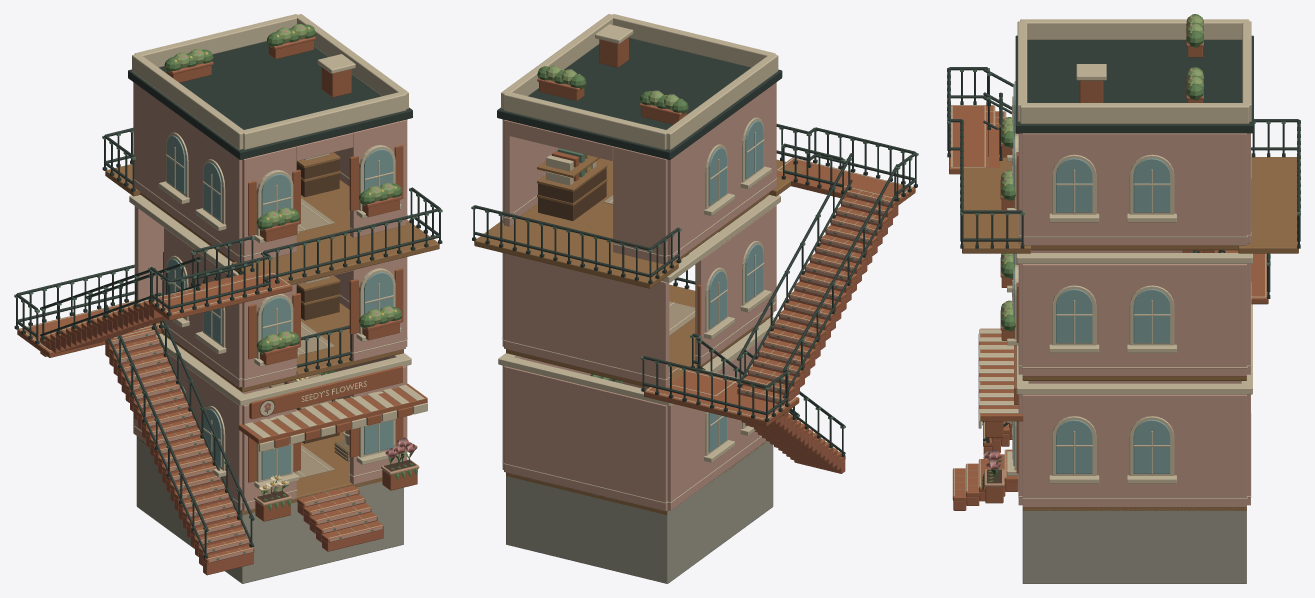
Rendered from lantern-lofts.glb.
3 views of the same model, side by side, from view 1: azimuth 30°, elevation 25°; view 2: azimuth 150°, elevation 25°; view 3: azimuth 270°, elevation 25° (orthographic). The views are drawn at different scales.
Parts seen in each view (by area): view 1: lantern-lofts_Architecture_Mesh, lantern-lofts_Roof_Mesh, lantern-lofts_Shell2_Mesh, lantern-lofts_Shell1_Mesh, lantern-lofts_Level2_Mesh, lantern-lofts_Shell0_Mesh, lantern-lofts_Level0_Mesh, Shop awning_Mesh, lantern-lofts_Level1_Mesh, lantern-lofts_Interior2_Mesh, lantern-lofts_Interior1_Mesh, florist_Planters_Mesh (+3 smaller); view 2: lantern-lofts_Shell0_Mesh, lantern-lofts_Shell1_Mesh, lantern-lofts_Roof_Mesh, lantern-lofts_Architecture_Mesh, lantern-lofts_Shell2_Mesh, lantern-lofts_Level0_Mesh, lantern-lofts_Level2_Mesh, lantern-lofts_Interior2_Mesh, lantern-lofts_Level1_Mesh, lantern-lofts_WallBase0_Mesh, lantern-lofts_WallBase2_Mesh, lantern-lofts_WallBase1_Mesh (+1 smaller); view 3: lantern-lofts_Shell1_Mesh, lantern-lofts_Shell0_Mesh, lantern-lofts_Shell2_Mesh, lantern-lofts_Roof_Mesh, lantern-lofts_Level0_Mesh, lantern-lofts_Level2_Mesh, lantern-lofts_Architecture_Mesh, Shop awning_Mesh, lantern-lofts_WallBase2_Mesh, lantern-lofts_WallBase1_Mesh, lantern-lofts_Level1_Mesh, florist_Planters_Mesh (+1 smaller).
Boxes of the visible parts, x1,y1,x2,y2 form: lantern-lofts_Architecture_Mesh: [14, 256, 383, 575]; lantern-lofts_Roof_Mesh: [128, 14, 412, 159]; lantern-lofts_Shell2_Mesh: [133, 82, 407, 262]; lantern-lofts_Shell1_Mesh: [129, 195, 407, 387]; lantern-lofts_Level2_Mesh: [102, 128, 442, 320]; lantern-lofts_Shell0_Mesh: [133, 333, 411, 511]; lantern-lofts_Level0_Mesh: [136, 432, 417, 583]; Shop awning_Mesh: [238, 365, 427, 451]; lantern-lofts_Level1_Mesh: [156, 303, 403, 392]; lantern-lofts_Interior2_Mesh: [296, 152, 340, 231]; lantern-lofts_Interior1_Mesh: [296, 275, 340, 355]; florist_Planters_Mesh: [254, 437, 419, 510]; lantern-lofts_Shell0_Mesh: [498, 317, 778, 511]; lantern-lofts_Shell1_Mesh: [502, 195, 780, 387]; lantern-lofts_Roof_Mesh: [497, 14, 782, 159]; lantern-lofts_Architecture_Mesh: [641, 153, 898, 473]; lantern-lofts_Shell2_Mesh: [502, 82, 776, 264]; lantern-lofts_Level0_Mesh: [506, 441, 773, 583]; lantern-lofts_Level2_Mesh: [471, 124, 918, 288]; lantern-lofts_Interior2_Mesh: [537, 148, 613, 220]; lantern-lofts_Level1_Mesh: [506, 254, 773, 387]; lantern-lofts_WallBase0_Mesh: [502, 436, 765, 509]; lantern-lofts_WallBase2_Mesh: [503, 178, 776, 263]; lantern-lofts_WallBase1_Mesh: [502, 302, 776, 384]; lantern-lofts_Shell1_Mesh: [1000, 250, 1252, 376]; lantern-lofts_Shell0_Mesh: [1007, 304, 1252, 506]; lantern-lofts_Shell2_Mesh: [1000, 81, 1250, 245]; lantern-lofts_Roof_Mesh: [1015, 14, 1253, 133]; lantern-lofts_Level0_Mesh: [985, 421, 1246, 583]; lantern-lofts_Level2_Mesh: [947, 67, 1300, 253]; lantern-lofts_Architecture_Mesh: [952, 68, 1270, 510]; Shop awning_Mesh: [978, 328, 1023, 428]; lantern-lofts_WallBase2_Mesh: [1018, 151, 1251, 245]; lantern-lofts_WallBase1_Mesh: [1018, 282, 1251, 375]; lantern-lofts_Level1_Mesh: [1022, 376, 1246, 380]; florist_Planters_Mesh: [982, 421, 1004, 490].
Bounding box in the file's own units: 8.06 × 12.68 × 8.2.
